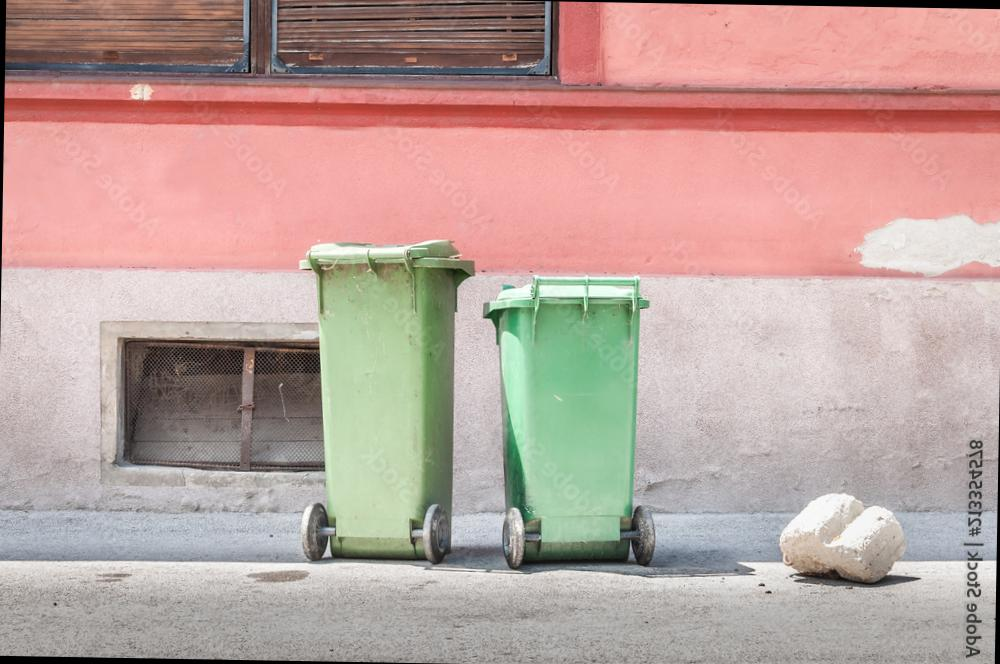garbage bin: (300, 239, 474, 561), (483, 276, 653, 560)
road: (622, 278, 994, 664), (175, 566, 986, 664)
trash: (641, 6, 1000, 287), (272, 0, 539, 75), (5, 0, 254, 68)
